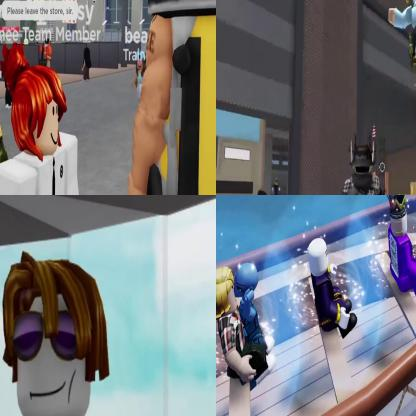Roblox-Avatar: (1, 250, 165, 416), (1, 41, 83, 195), (217, 267, 278, 388), (309, 239, 358, 340), (236, 265, 267, 392), (387, 196, 416, 303), (337, 131, 384, 195), (389, 1, 416, 90), (132, 52, 147, 103), (83, 48, 93, 82)
